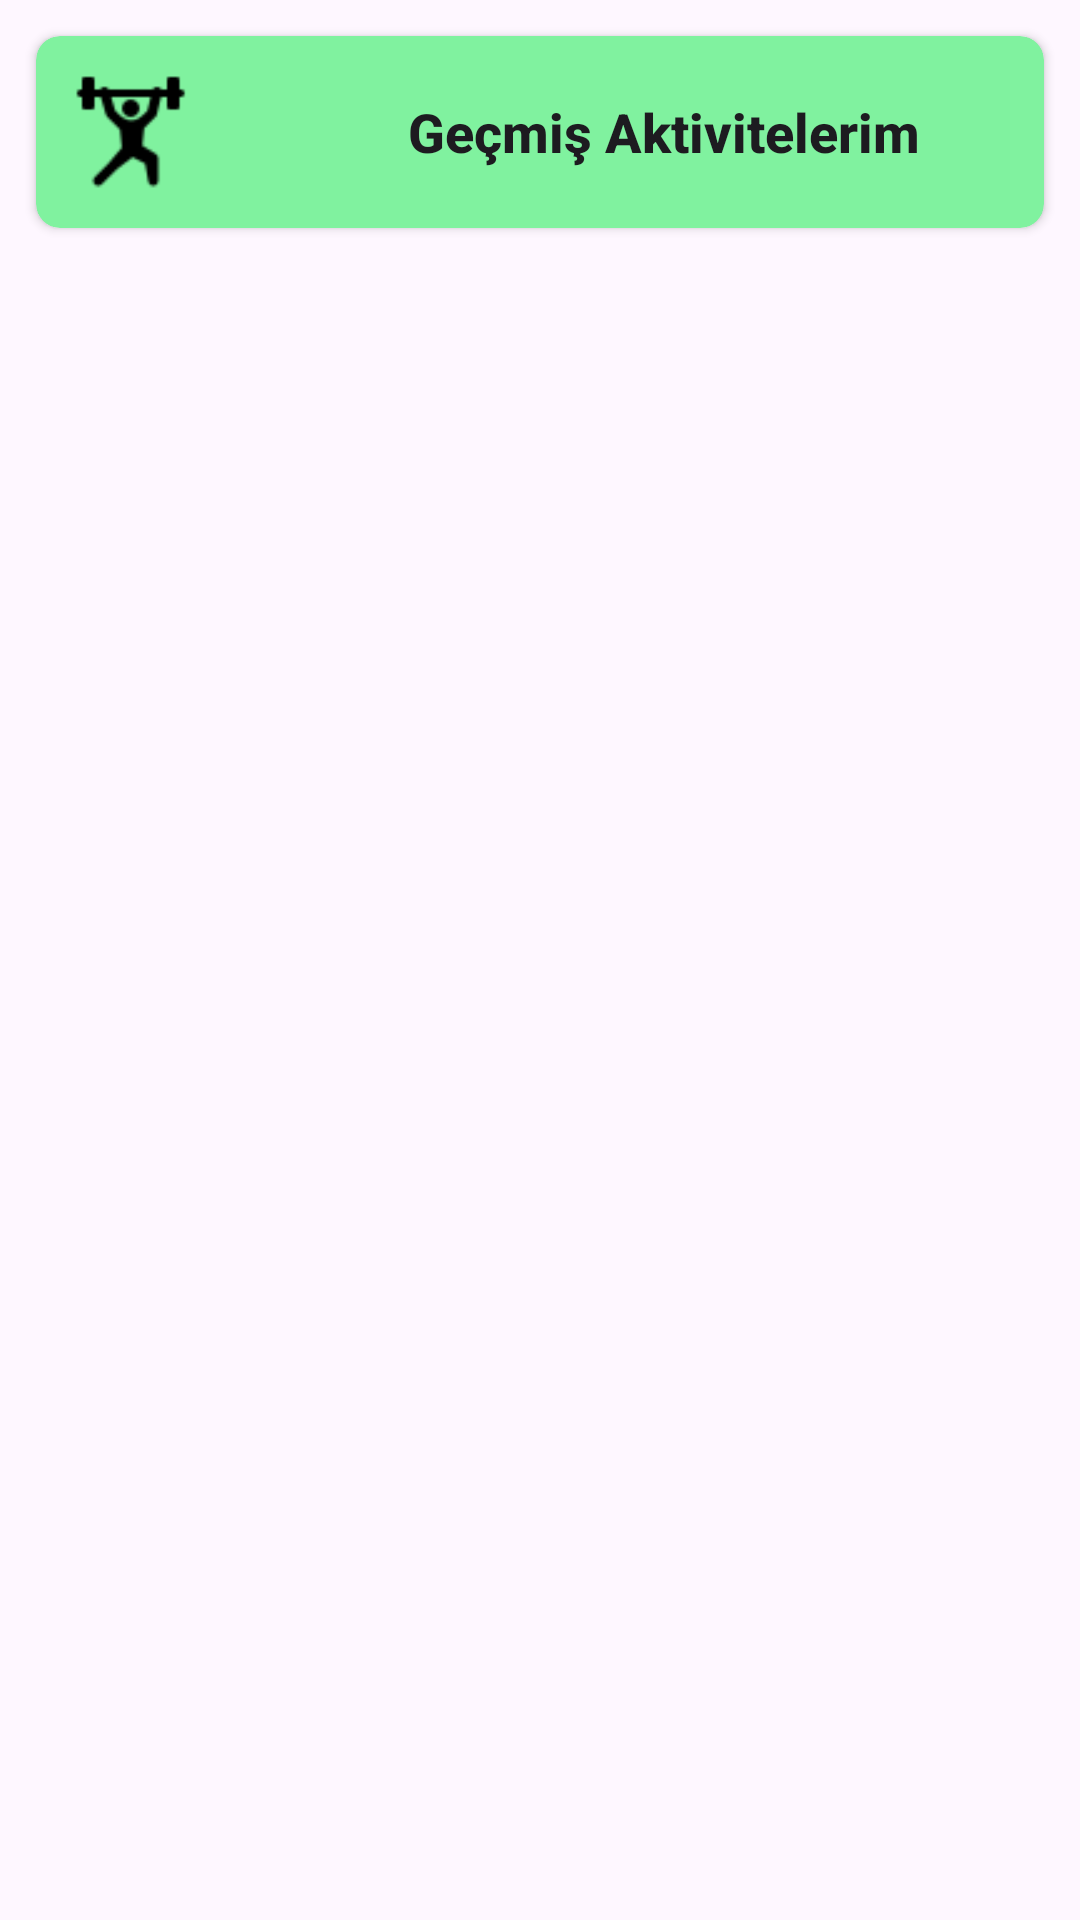

Icons on this 1080x1920 Android screen, each with the point to tap as (x=x, y=y):
Egzersiz İkonu: (x=130, y=132)
